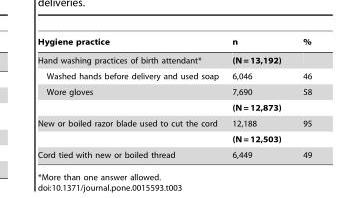table: (37, 37, 311, 159)
table column: (37, 37, 224, 159), (224, 37, 291, 159), (291, 37, 311, 159)
table column header: (37, 37, 311, 50)
table row: (37, 50, 311, 68), (37, 83, 311, 99), (37, 99, 311, 115), (37, 115, 311, 131), (37, 68, 311, 83), (37, 131, 311, 146), (37, 37, 311, 50), (37, 146, 311, 159)
table spanning cell: (37, 83, 224, 115), (37, 115, 224, 146)
